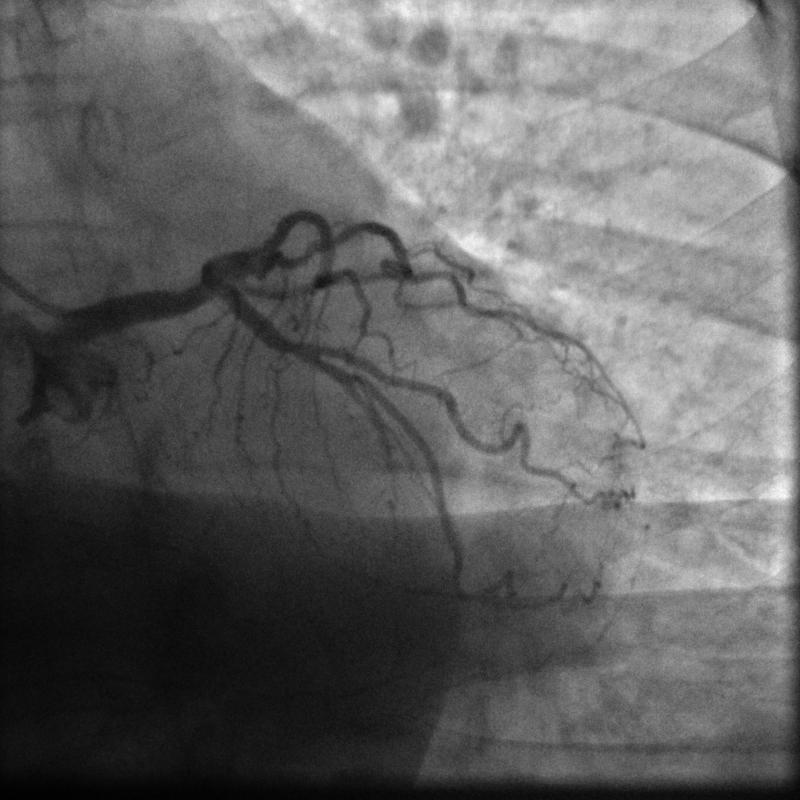Stenosis: (276, 322, 309, 374)
